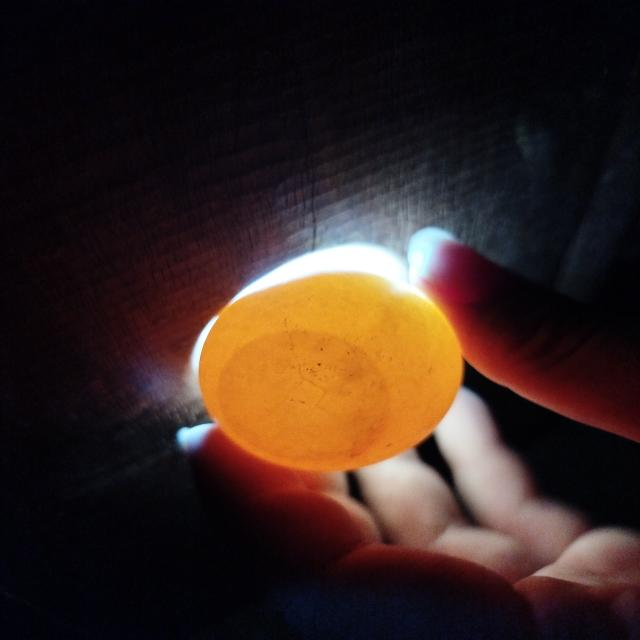Camara de Ar: (220, 331, 388, 464)
Rachadura: (291, 338, 328, 414)
